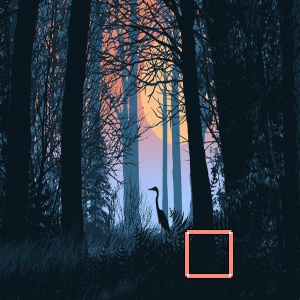square: (183, 227, 237, 282)
